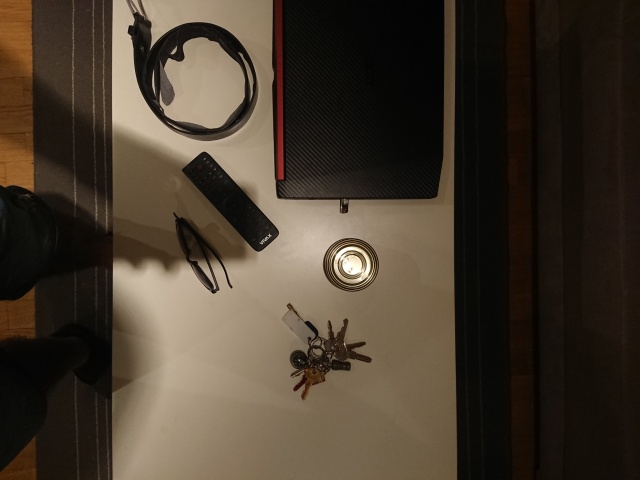Giana Tuna Salad Mexico 185g: (320, 234, 381, 294)
